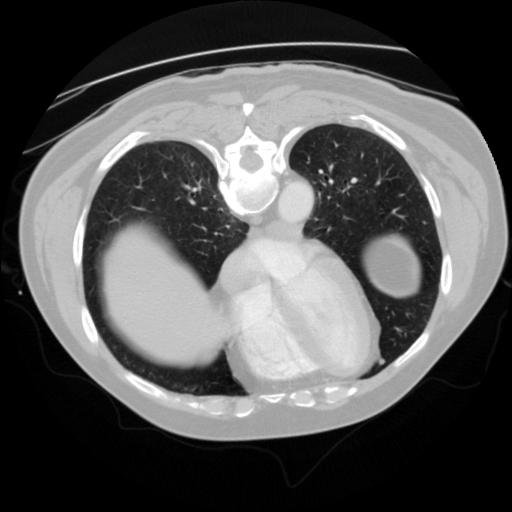nodule: (375, 358, 387, 370)
